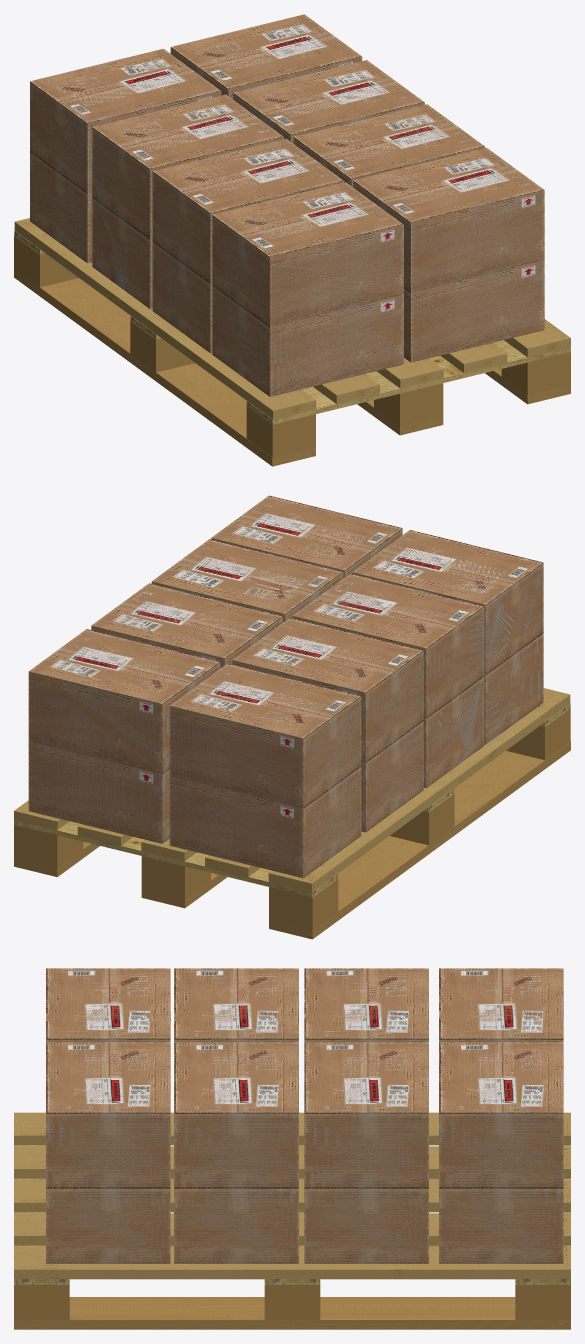
The model's file is pallet_with_boxes.fbx.
3 views of the same model, one above another, from view 1: azimuth 30°, elevation 25°; view 2: azimuth 150°, elevation 25°; view 3: azimuth 270°, elevation 25° (orthographic). The views are drawn at different scales.
Parts seen in each view (by area): view 1: Group30, Group51, Group71, Group10, Planche3, Group27, Group2, Group17, Group12, Group22, Group32, Group37 (+26 smaller); view 2: Group33, Group74, Group38, Group79, Planche3, Group2, Group37, Group12, Group7, Group17, Group27, Group22 (+27 smaller); view 3: Planche2, Planche_3_5, Group19, Group24, Group29, Group34, Group60, Group65, Group70, Group75, Group2, Group7 (+18 smaller).
Part boxes in pixels (x1,y1,x2,y2): Group30: (411,190,544,292); Group51: (270,294,403,396); Group71: (411,260,544,362); Group10: (270,224,403,326); Planche3: (14,269,315,466); Group27: (353,148,544,222); Group2: (153,138,343,213); Group17: (234,60,424,134); Group12: (93,94,283,169); Group22: (294,104,484,179); Group32: (171,14,361,88); Group37: (30,48,220,123); Group33: (28,671,162,773); Group74: (28,741,162,843); Group38: (169,706,303,807); Group79: (169,776,303,877); Planche3: (269,741,570,939); Group2: (293,573,483,648); Group37: (170,663,360,738); Group12: (232,617,423,692); Group7: (352,530,543,604); Group17: (91,583,282,657); Group27: (211,495,402,570); Group22: (152,539,342,613); Planche2: (14,1297,570,1329); Planche_3_5: (14,1246,570,1279); Group19: (304,1112,428,1188); Group24: (174,1112,298,1188); Group29: (46,1112,170,1188); Group34: (439,1112,563,1188); Group60: (304,1188,428,1263); Group65: (174,1188,298,1263); Group70: (46,1188,170,1263); Group75: (439,1188,563,1263); Group2: (174,968,298,1038); Group7: (46,968,170,1038).
Bounding box in the file's own units: 80.05 × 50.12 × 120.
